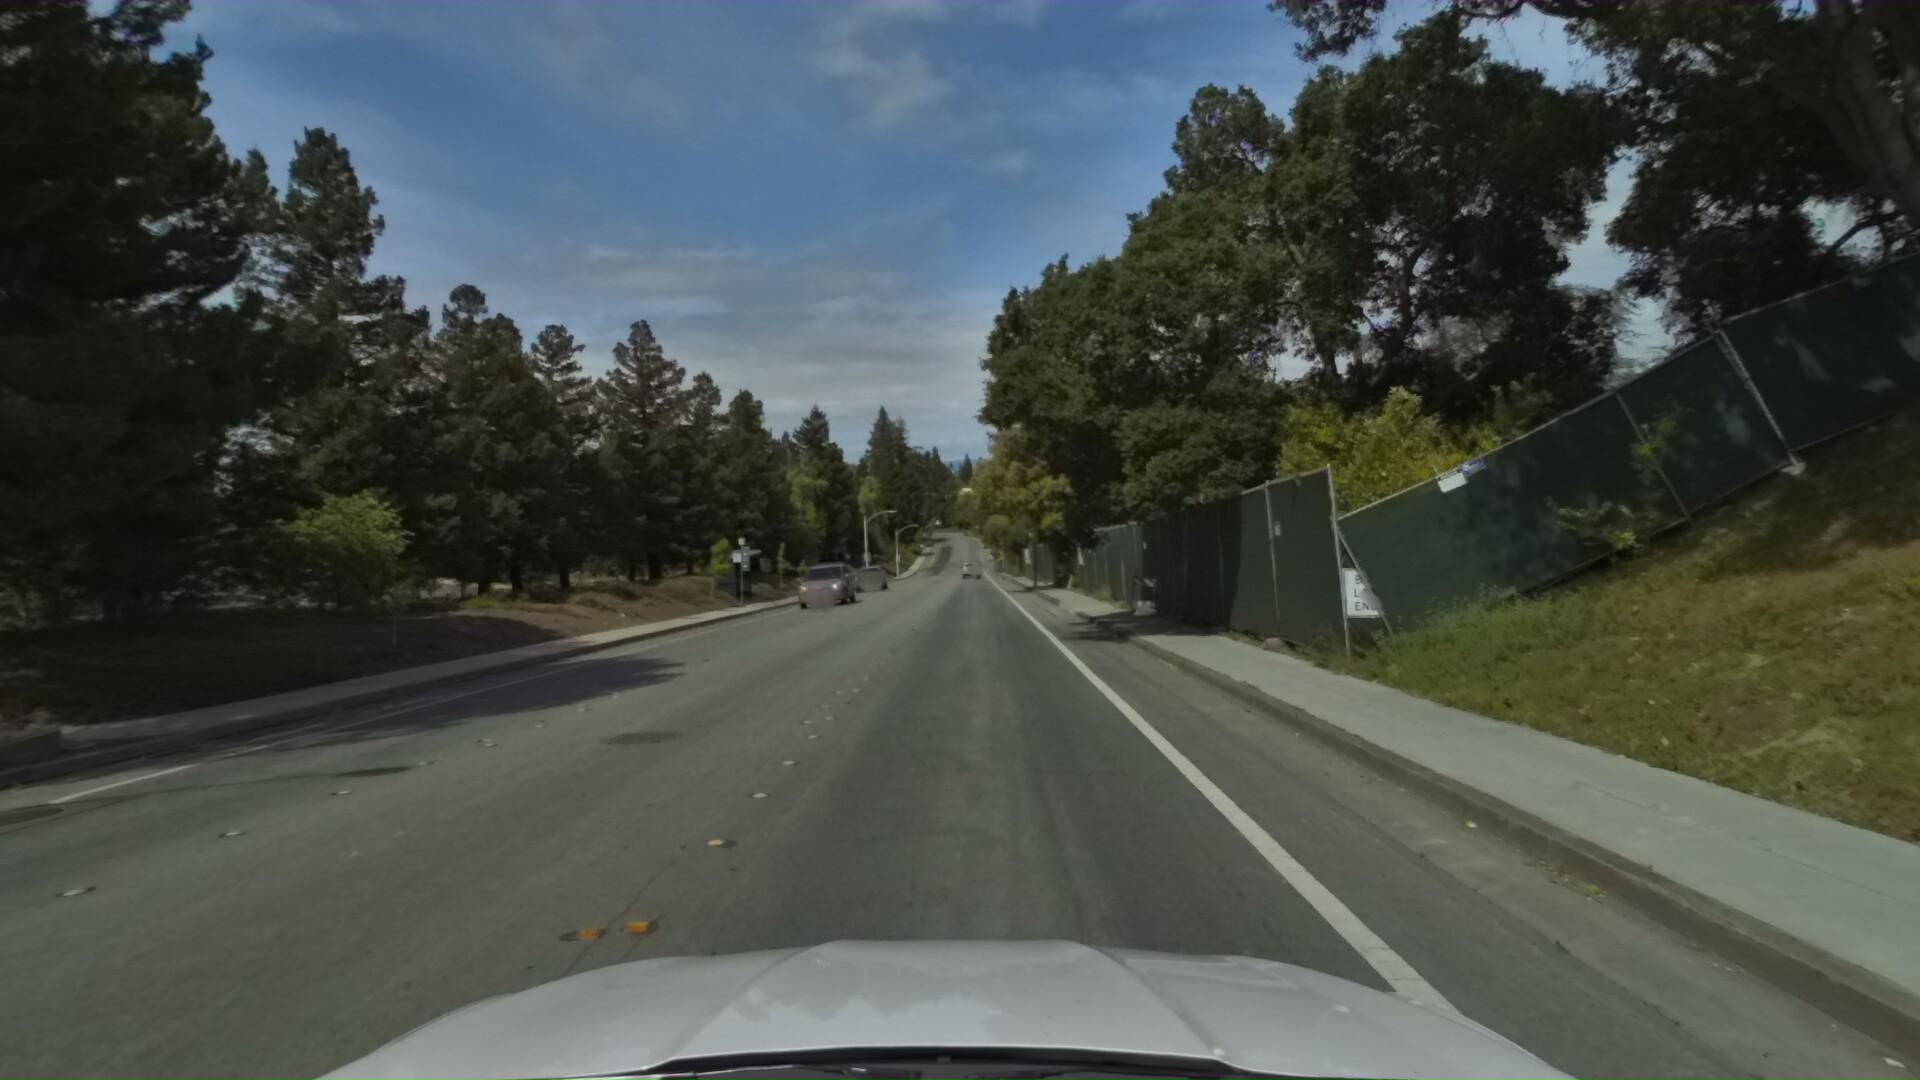car: (782, 558, 852, 618), (841, 563, 886, 597)
